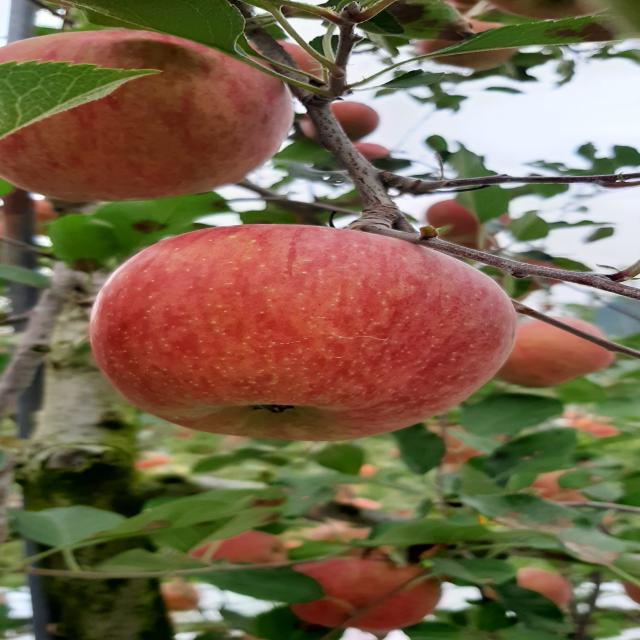fresh: (74, 216, 535, 453)
